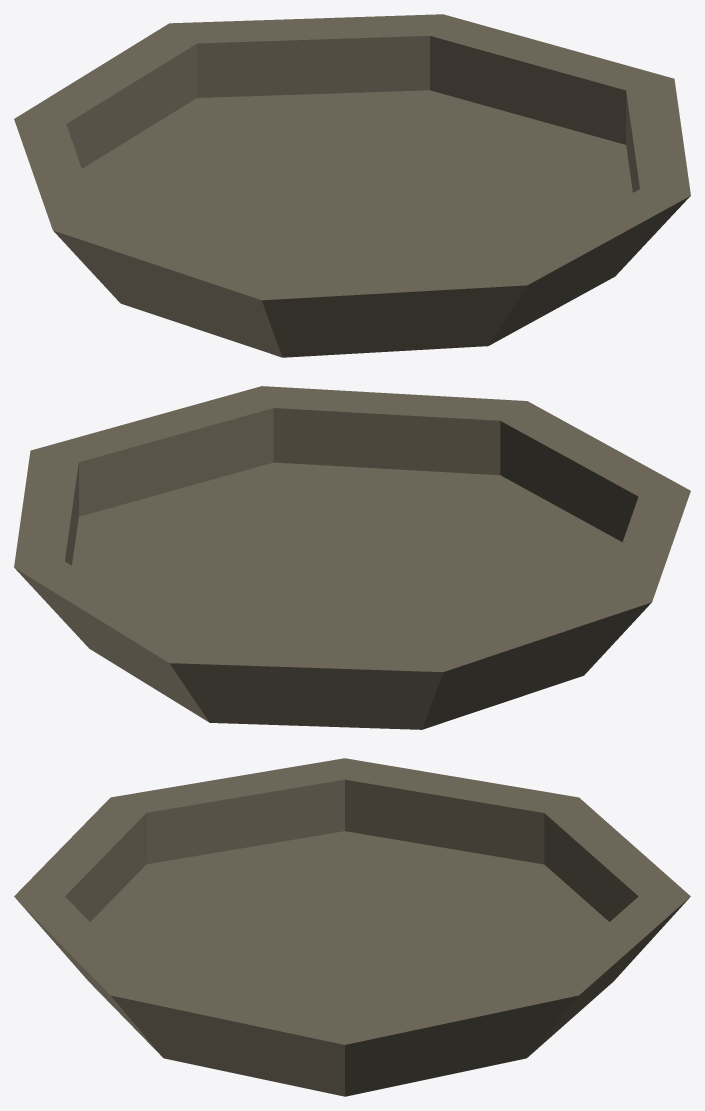
The model's file is Plate.fbx.
The picture shows the model from 3 angles, top to bottom: view 1: azimuth 30°, elevation 25°; view 2: azimuth 150°, elevation 25°; view 3: azimuth 270°, elevation 25°; orthographic projection. The views are drawn at different scales.
Visible parts, largest first — view 1: Cube; view 2: Cube; view 3: Cube.
Part boxes in pixels (left/top/right/bottom): Cube: left=14, top=14, right=690, bottom=357; Cube: left=14, top=386, right=690, bottom=729; Cube: left=14, top=758, right=690, bottom=1096.
Bounding box in the file's own units: 290 × 40 × 289.
